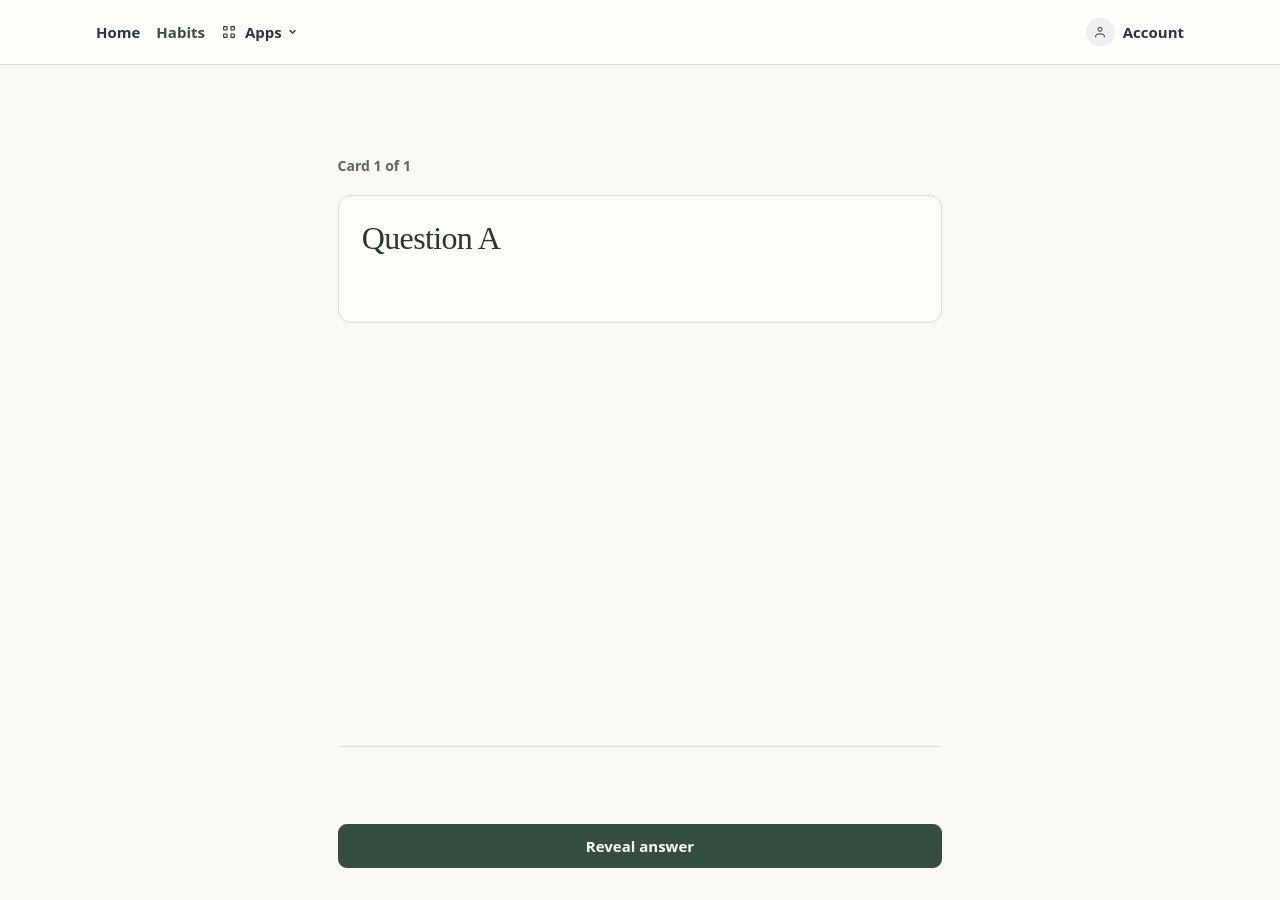
Scenario: uncertain final save retries the same event, and completes only after acknowledgement
Click the button "Reveal answer" at point(640, 846), box top-left (338, 824), bottom-right (942, 868)
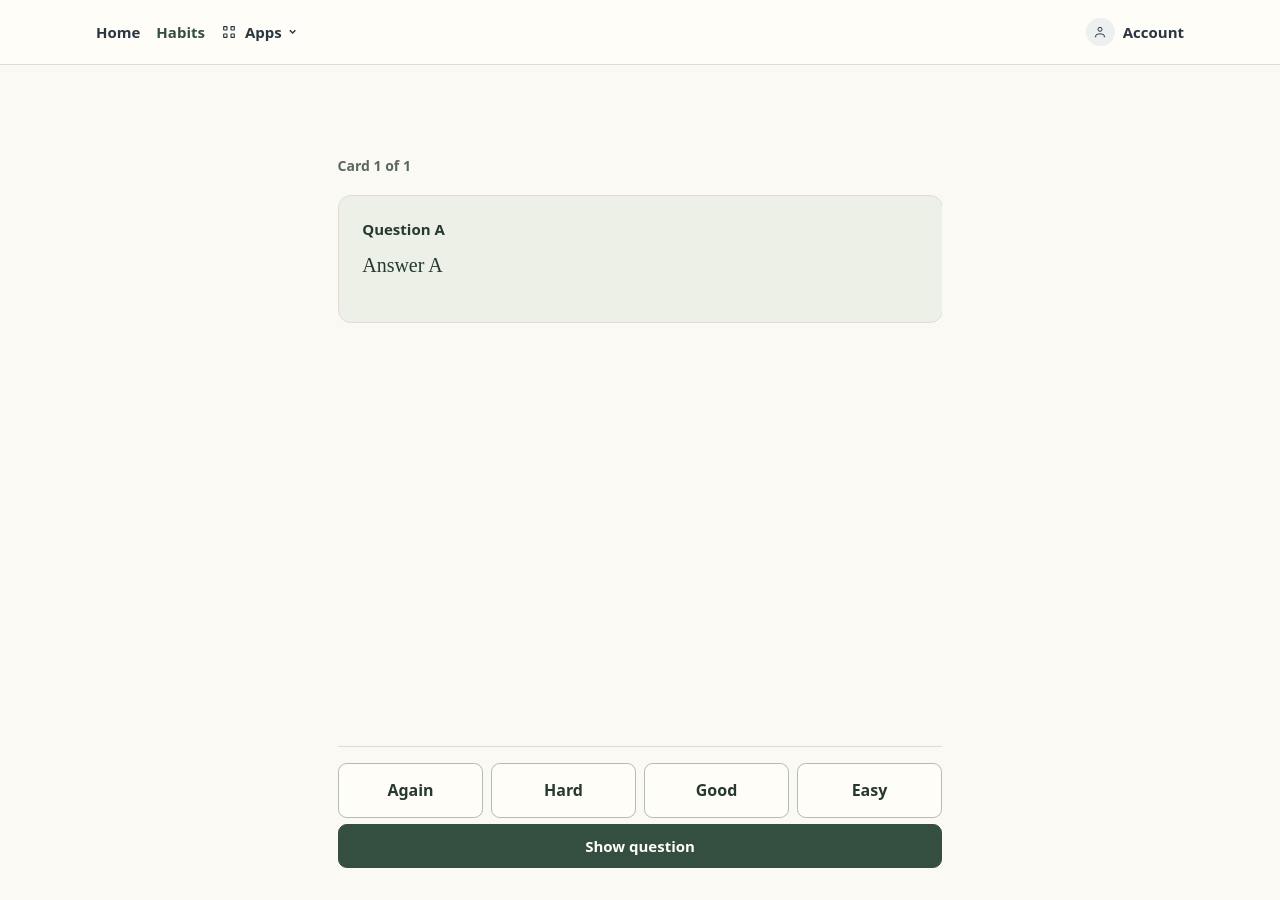
Check: the button "Again" is shown
Click the button "Again" at point(410, 790), box top-left (338, 763), bottom-right (483, 818)
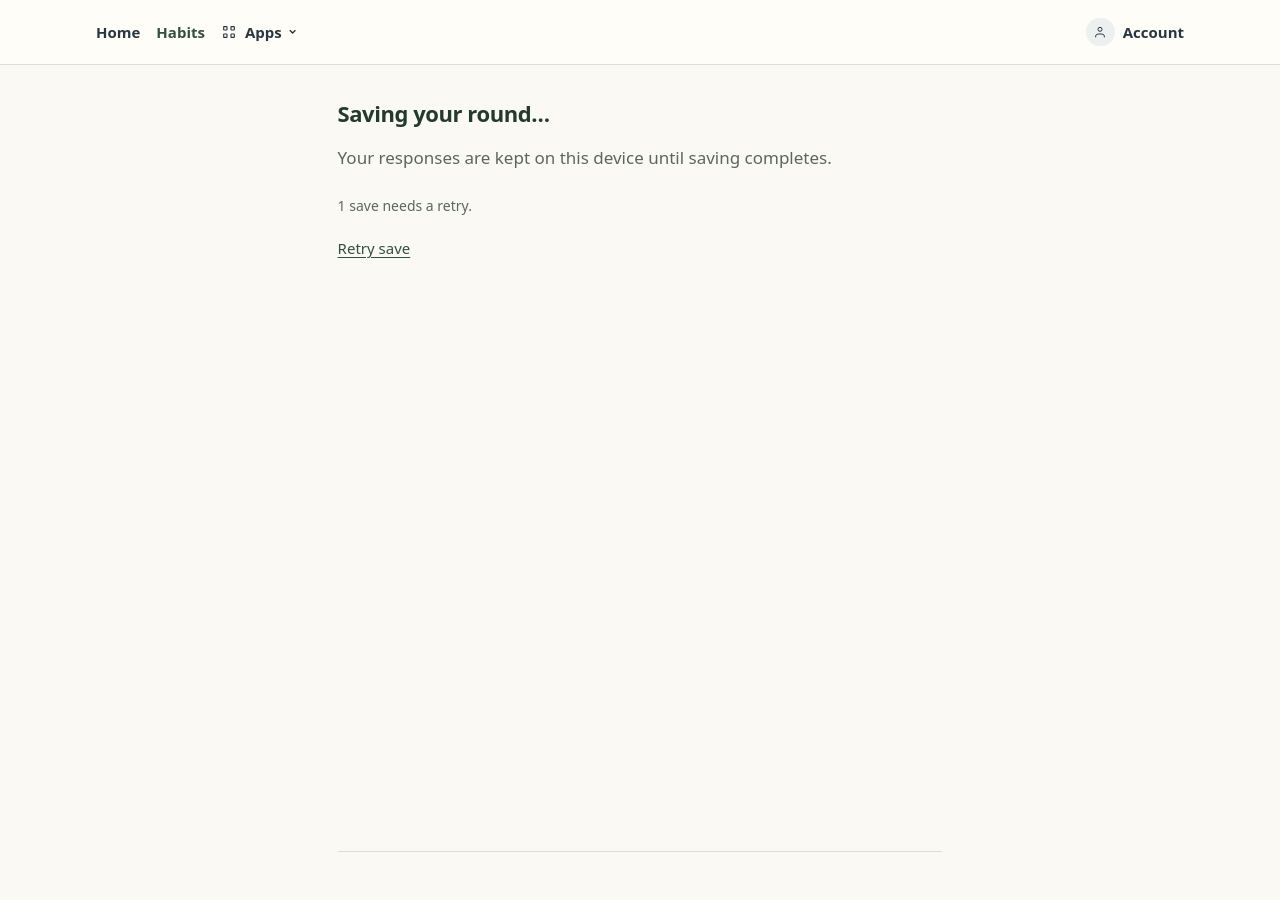
Check: the text "Saved." is not shown
Check: the button "Retry save" is shown
Click the button "Retry save" at point(374, 248), box top-left (338, 226), bottom-right (410, 270)
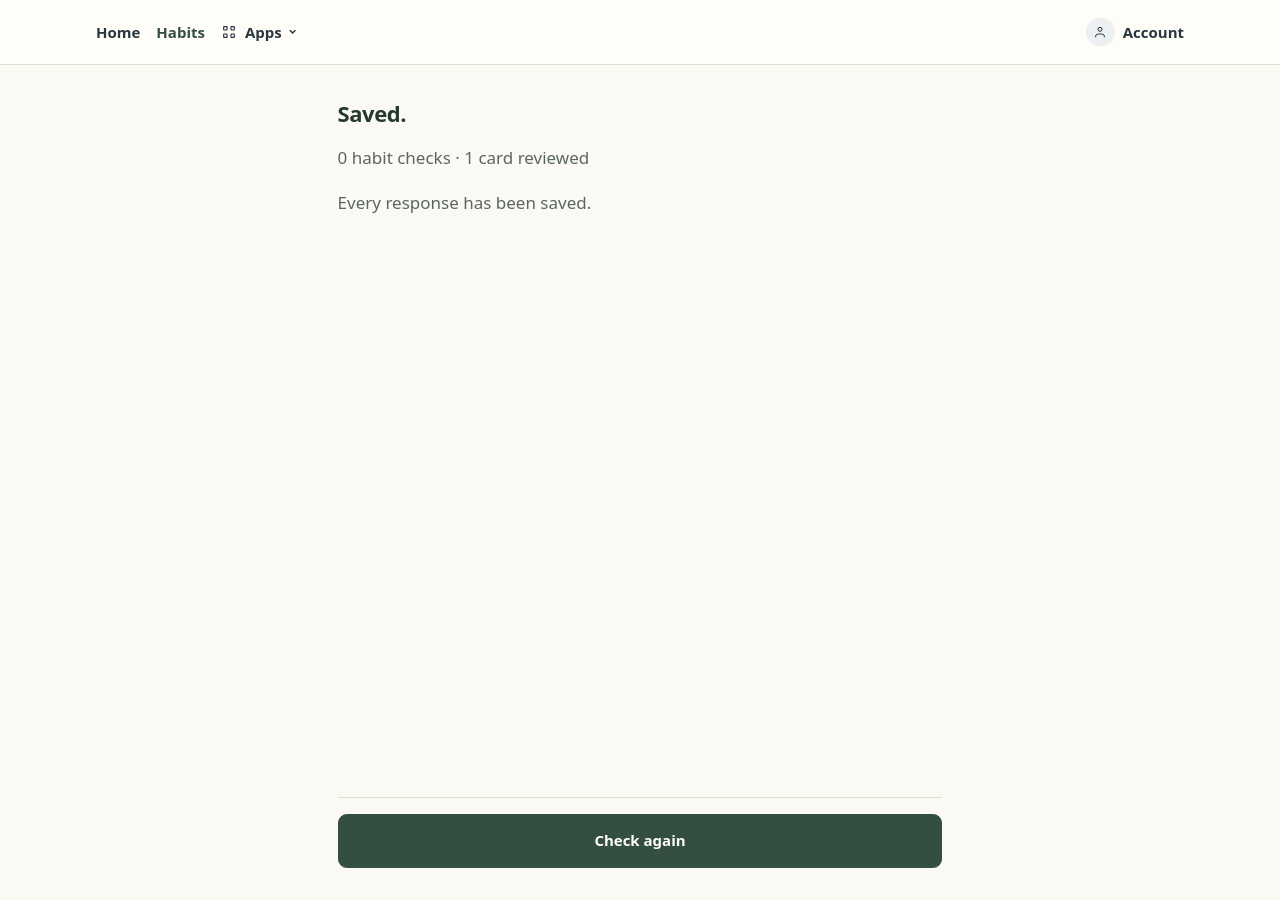
Check: the text "Saved." is shown, box top-left (338, 98), bottom-right (406, 128)
